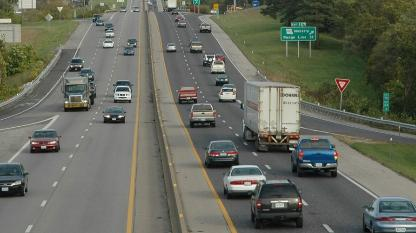car: (249, 178, 309, 231), (289, 133, 342, 182), (220, 164, 268, 198), (0, 161, 30, 202), (203, 137, 241, 169), (27, 126, 63, 158), (187, 101, 219, 131), (110, 79, 134, 107), (100, 104, 128, 127), (176, 81, 199, 108)
